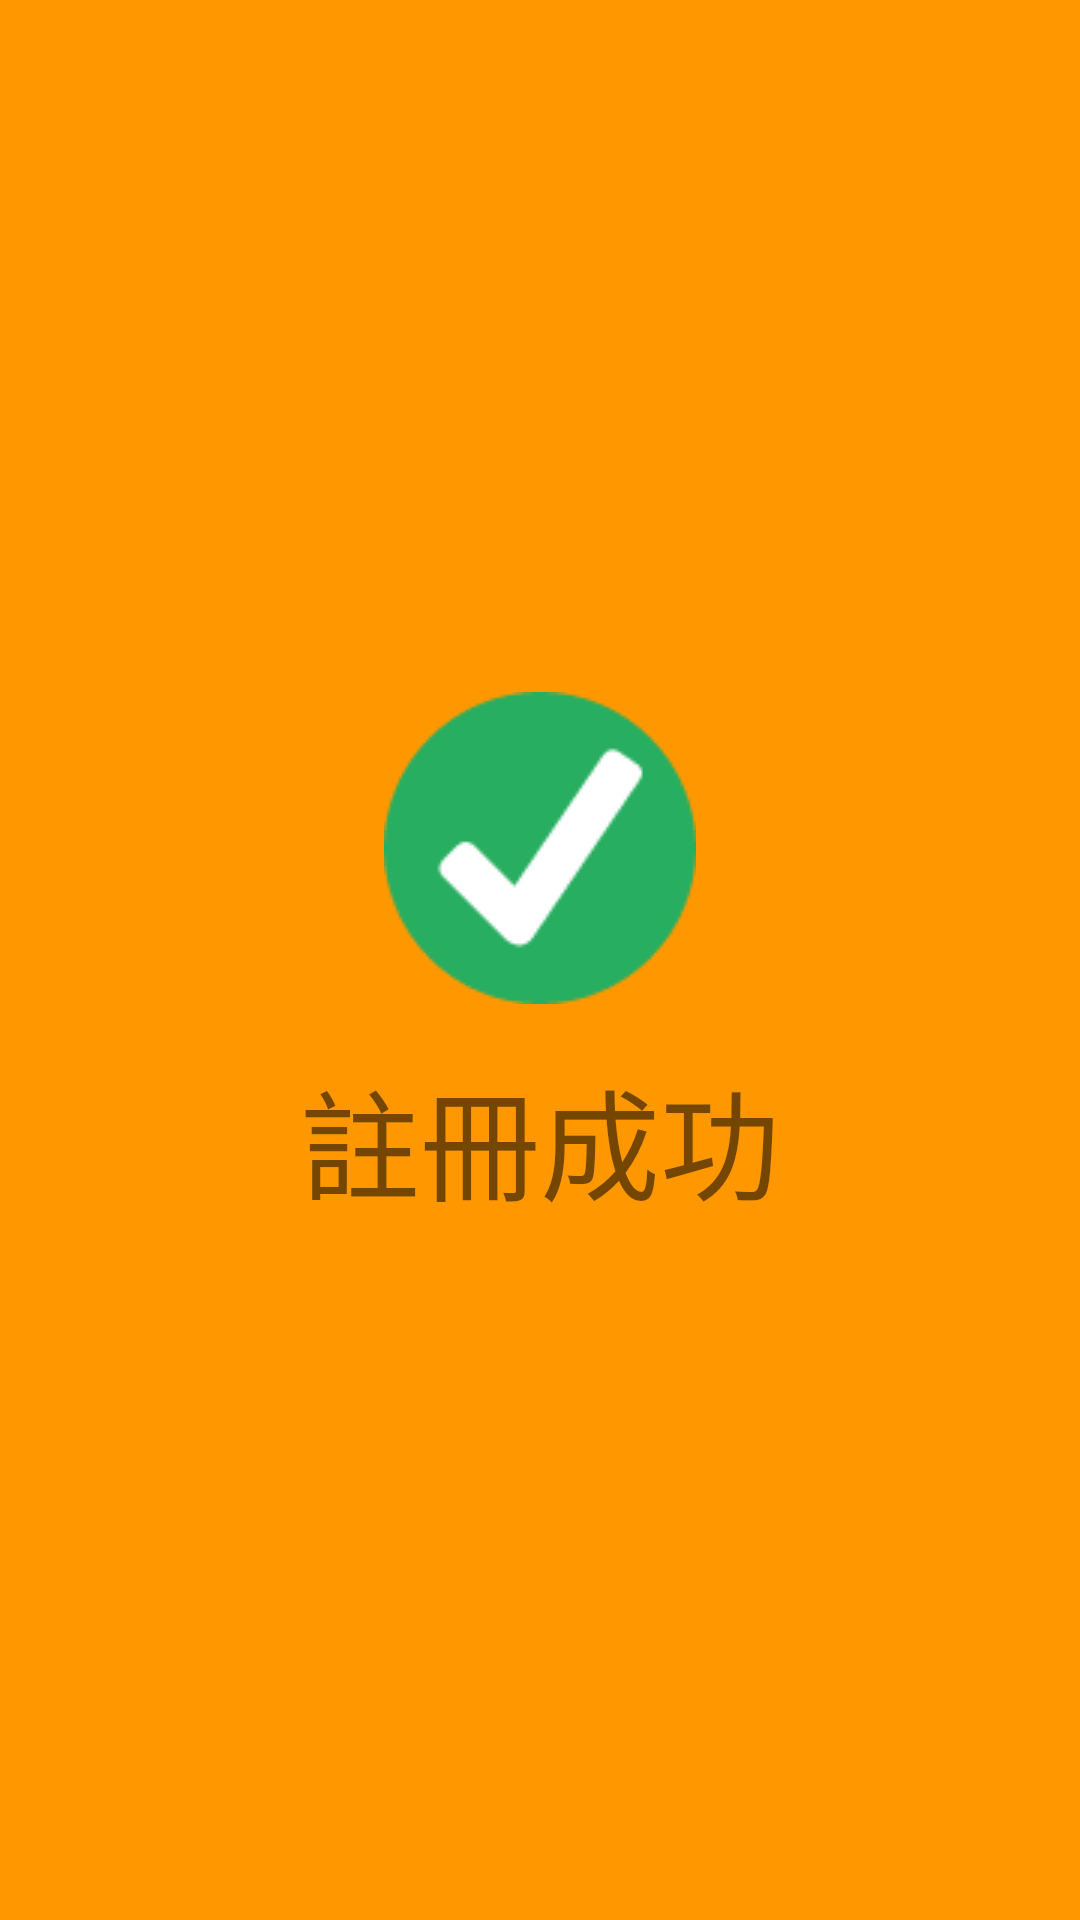

Locate icon controls on the screen. Image size 1080*1920, boxes as bbox=(x1, y1, x2, y2).
confirm: bbox=(384, 692, 696, 1004)
